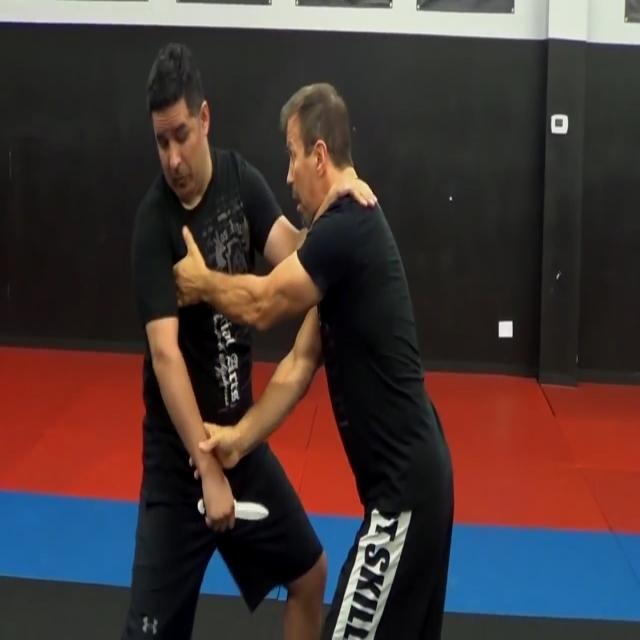knife: (195, 496, 271, 521)
